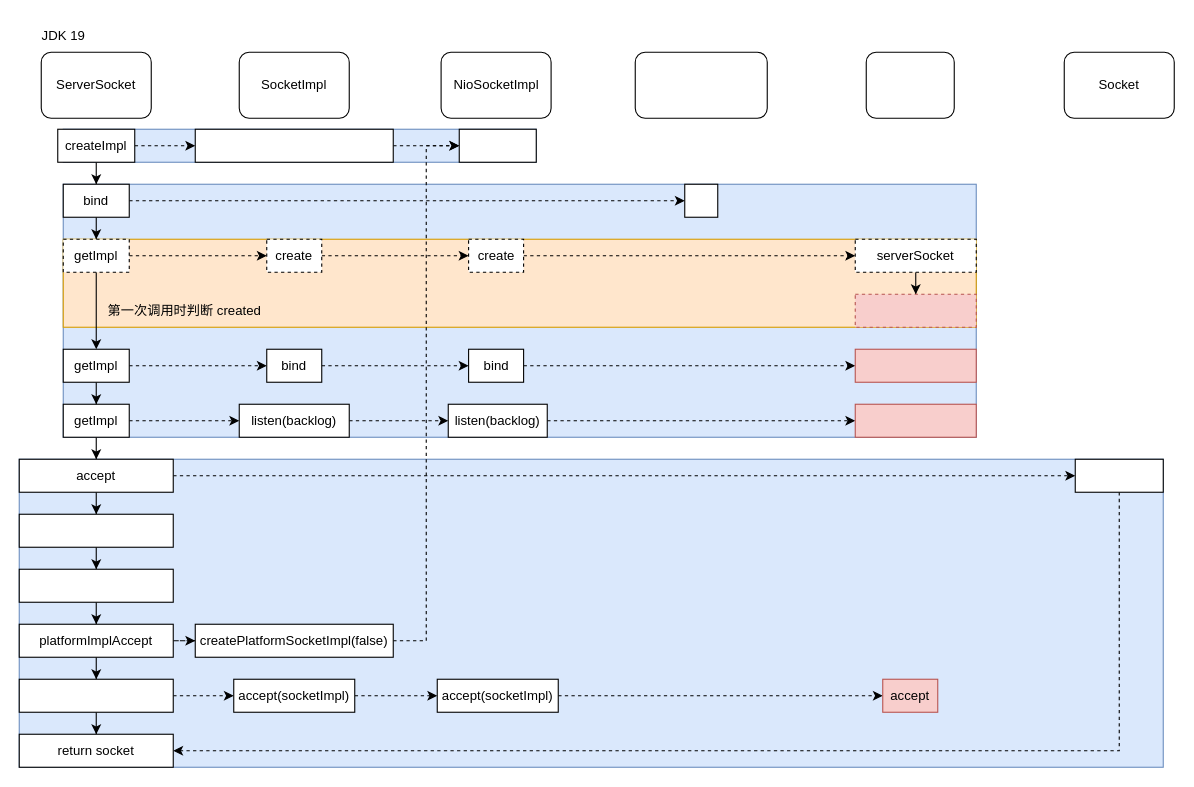
Some shapes in this 1194 by 787 pixel diagram are drawn without their labels. Here are the shapes that lost their labels. From the top down, the centre of each, then its label:
point 700,84: InetSocketAddress
point 909,84: Net
point 293,145: createPlatformSocketImpl(true)
point 497,145: new(true)
point 701,200: new
point 915,310: socket0
point 915,365: bind0
point 915,420: listen(fd, backlog)
point 1118,475: new(null)
point 95,530: implAccept(socket)
point 95,585: implAccept
point 95,695: implAccept(socketImpl)
